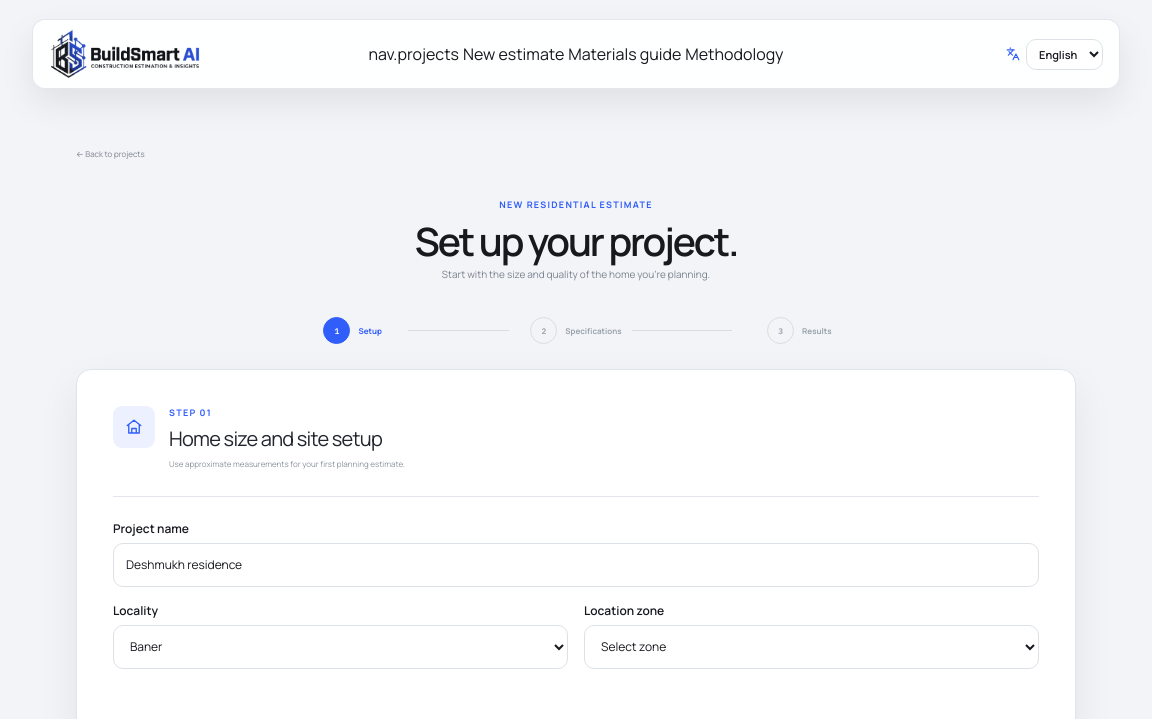
Scenario: WizardPage estimate wiring › shows a loading state while the request is pending
Select "West Pune" in the dropdown labelled "Location zone" at (812, 647), box [584,625,1039,669]
(page scrolled)
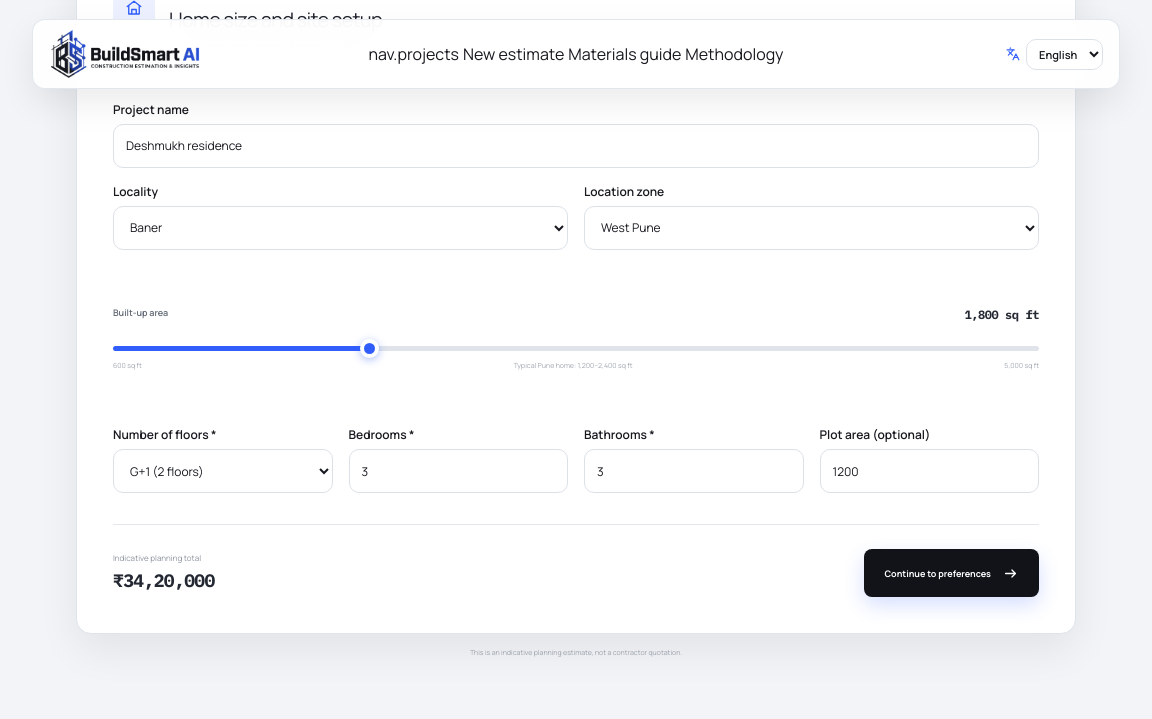
Click the button "Continue to preferences".
click(952, 573)  # box [864,549,1039,597]
(page scrolled)
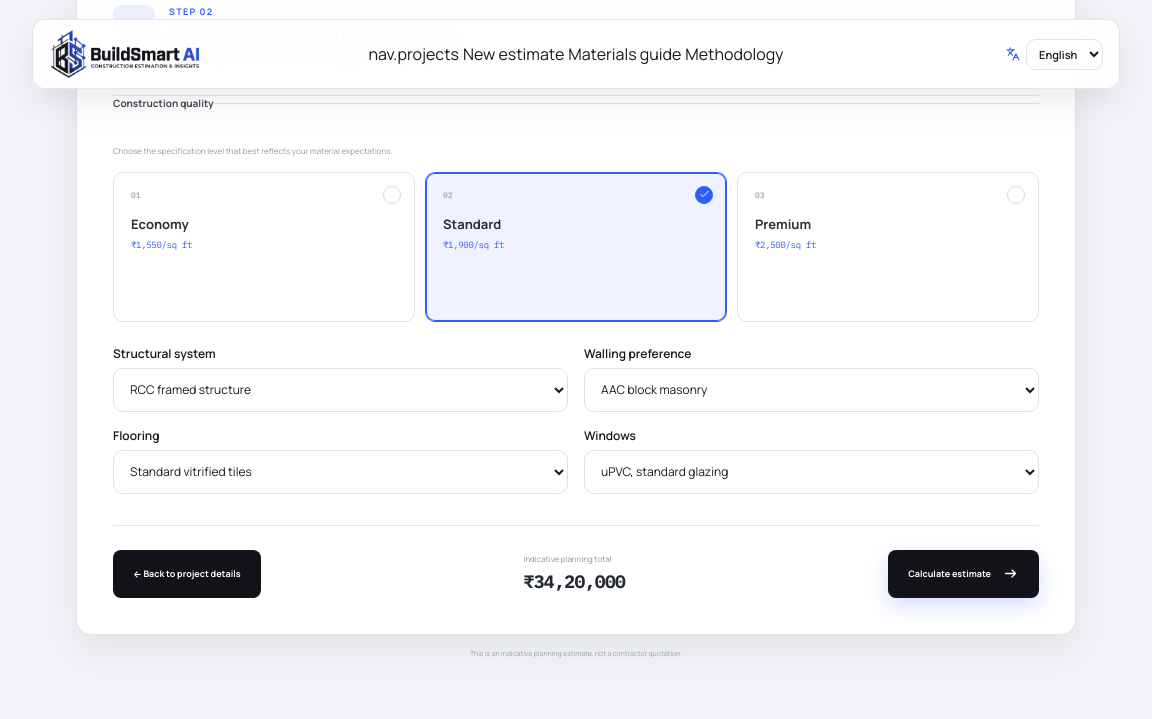
Result: the button "Calculate estimate" is shown
Click the button "Calculate estimate".
click(964, 574)  # box [888,550,1039,598]
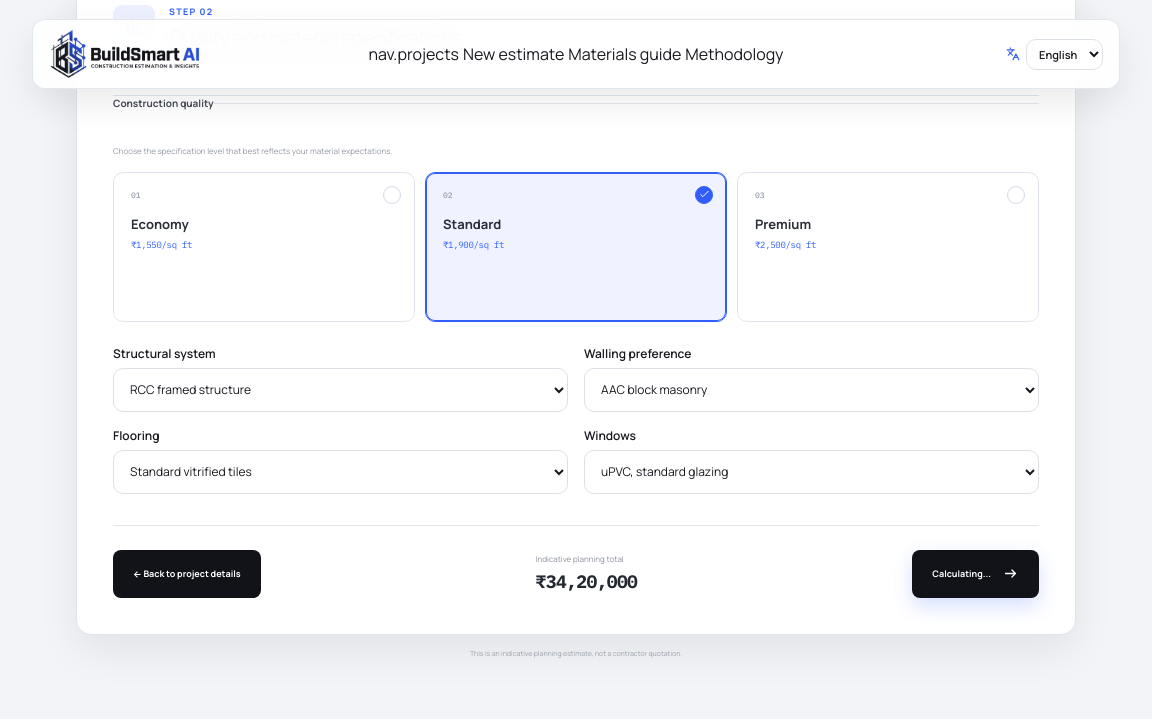
Result: the button "Calculating..." is disabled at [912,550,1039,598]
